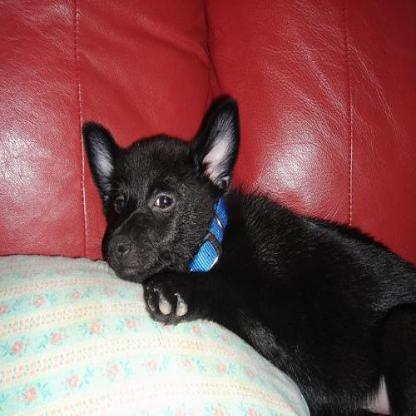schipperke: (81, 93, 414, 414)
